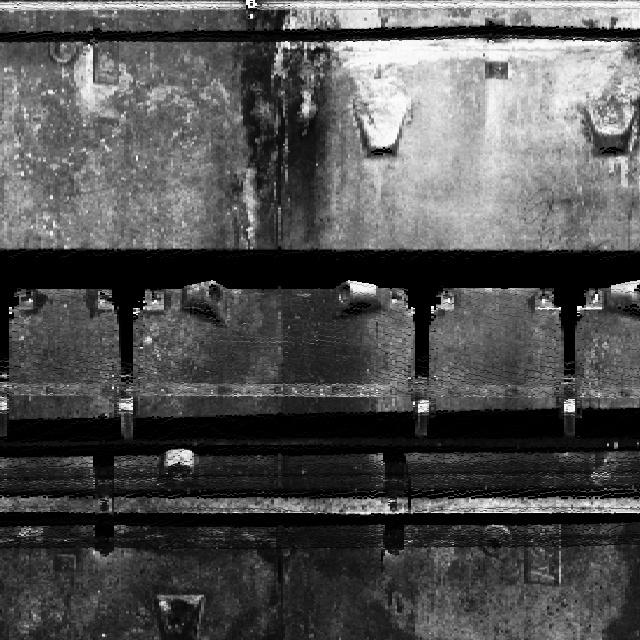leakage: (115, 3, 418, 634), (590, 451, 639, 639)
